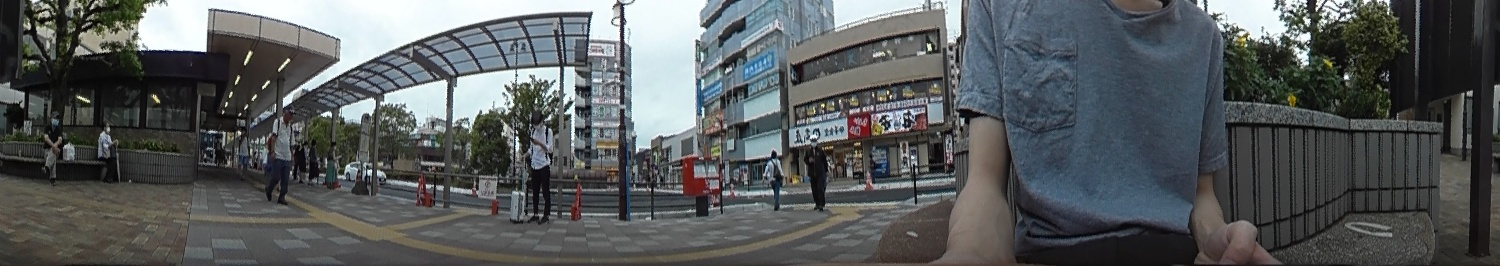difficult_person: (326, 138, 341, 188), (308, 139, 320, 182), (298, 138, 309, 178), (240, 128, 250, 170), (265, 129, 277, 164), (212, 135, 225, 163), (867, 154, 878, 182)
person: (525, 108, 556, 221), (266, 107, 292, 206), (803, 133, 831, 210), (39, 111, 64, 182), (96, 122, 119, 187), (765, 152, 785, 205)
